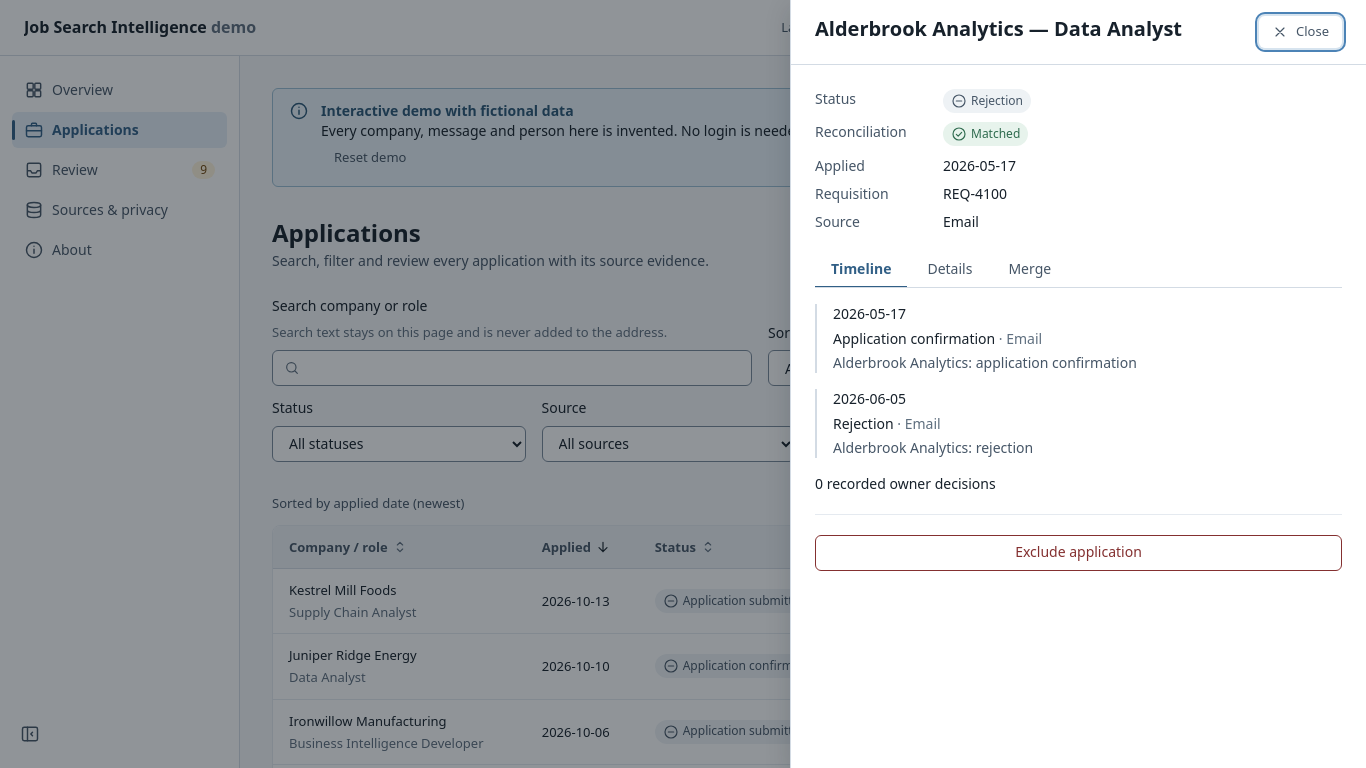
Test: applications › opens a deep-linked application that is not on the current page and closes safely
The image size is (1366, 768).
Expected: the list named "Evidence timeline" is shown, [815, 304, 1342, 458]
Expected: the text "0 recorded owner decisions" is shown, [815, 474, 996, 493]
Click the button "Close". click: [1300, 32]
box: [1259, 16, 1342, 48]
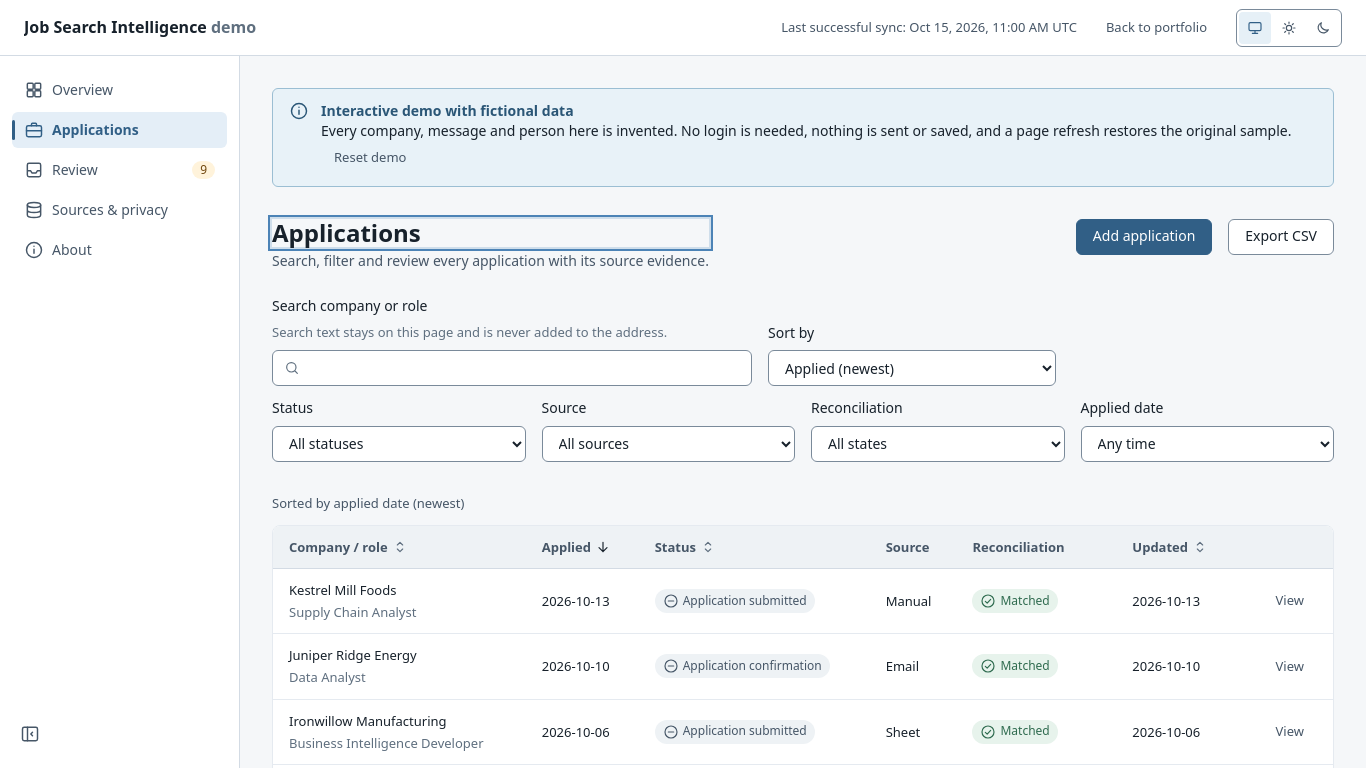
Now the dialog is gone
